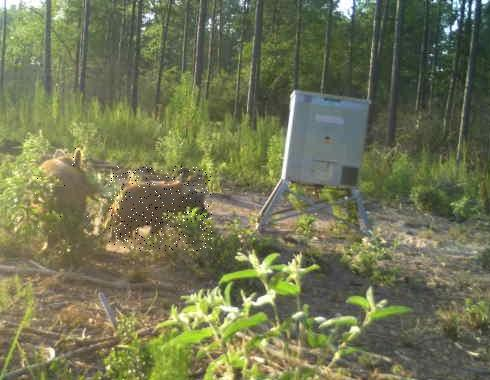Hog: (108, 166, 211, 251), (30, 148, 90, 231)
